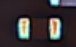COMP: (11, 12, 66, 44)
GAP: (48, 1, 62, 27)
